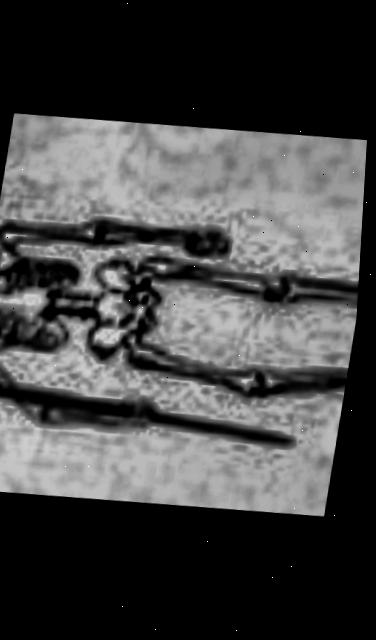La Muerte: (0, 104, 371, 526)
